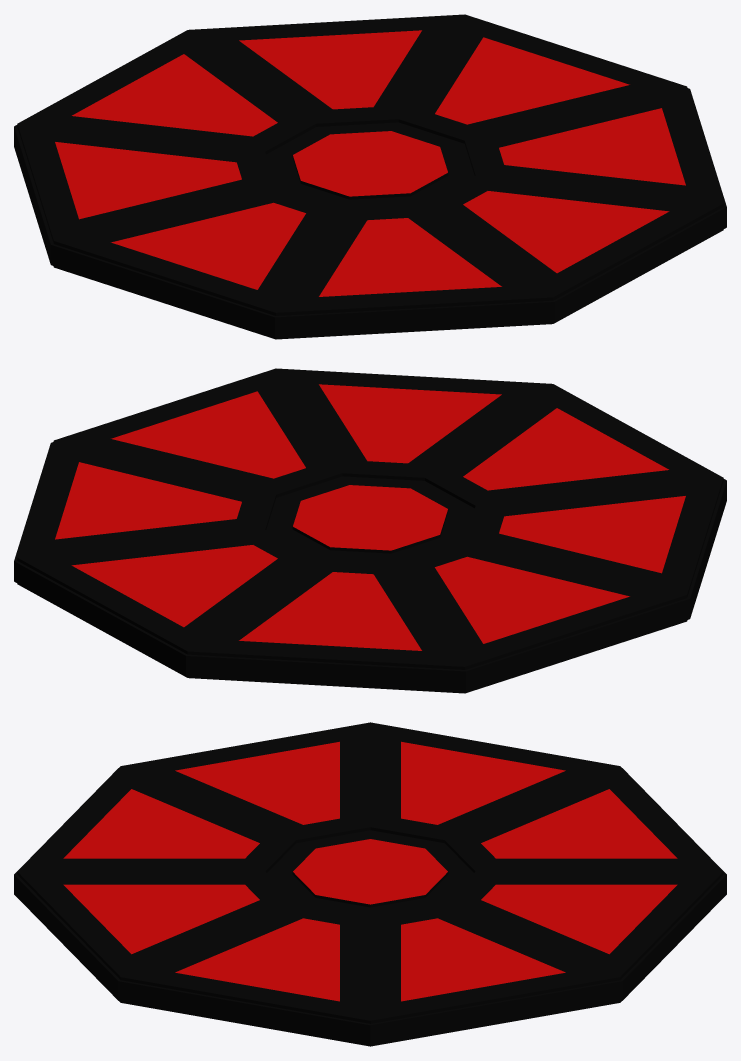
Rendered from kırmızıplak.fbx.
The picture shows the model from 3 angles, top to bottom: view 1: azimuth 30°, elevation 25°; view 2: azimuth 150°, elevation 25°; view 3: azimuth 270°, elevation 25°; orthographic projection. The views are drawn at different scales.
Visible parts, largest first — view 1: Cylinder; view 2: Cylinder; view 3: Cylinder.
Part boxes in pixels (<box>): Cylinder: <box>14,14,726,339</box>; Cylinder: <box>14,368,726,693</box>; Cylinder: <box>14,722,726,1046</box>.
Bounding box in the file's own units: 564 × 22.42 × 564.
